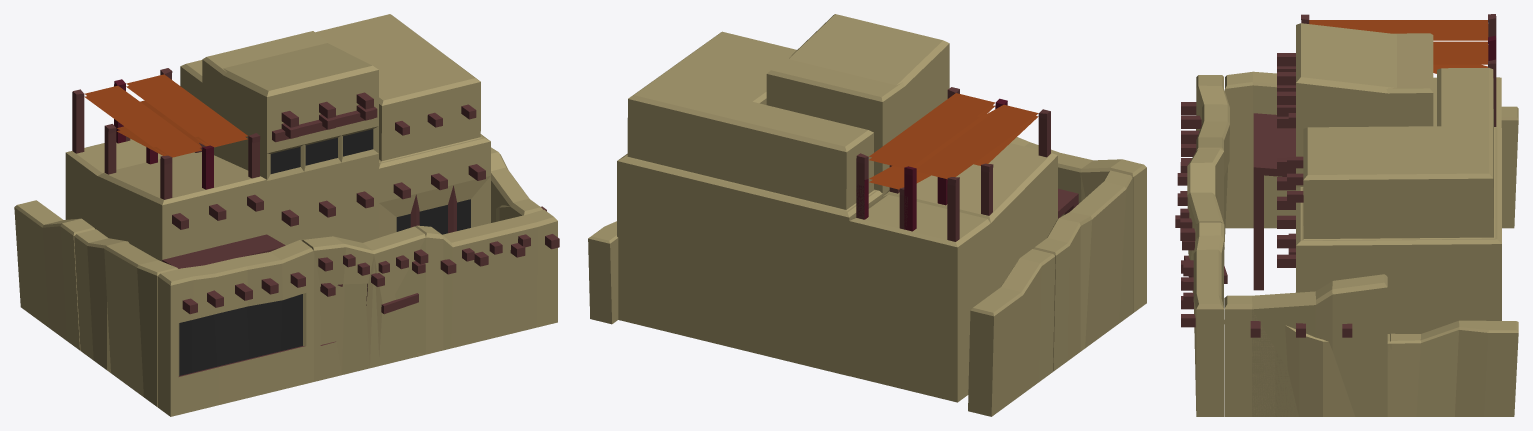
The model's file is Desert House.fbx.
The picture shows the model from 3 angles, left to right: view 1: azimuth 30°, elevation 25°; view 2: azimuth 150°, elevation 25°; view 3: azimuth 270°, elevation 25°; orthographic projection. The views are drawn at different scales.
Visible parts, largest first — view 1: Initial Desert Wall Module C, Desert Home Module Home Tall No.2, Desert Home Module Home Side A No.2, Desert Home Module Side B No.1, Desert Home Module Home Tall No.1, Initial Desert Wall Module E, Initial Desert Wall Module B Door, Desert Home Module Side B No.2, Initial Desert Wall Module A, Initial Desert Wall Module A Door, Desert Home Module Home Side A No.1, Initial Desert Wall Module F (+7 smaller); view 2: Desert Home Module Home Side A No.1, Desert Home Module Side B No.2, Desert Home Module Home Side A No.2, Initial Desert Wall Module E, Desert Home Module Home Tall No.2, Initial Desert Wall Module F, Desert Home Module Side B No.1, Desert Home Module Home Tall No.1, Desert Home Module Roof Tent B, Desert Home Module Side Roof Tent A, Initial Desert Wall Module C, Initial Desert Wall Module D No.1 (+3 smaller); view 3: Desert Home Module Home Side A No.2, Initial Desert Wall Module G, Desert Home Module Home Side A No.1, Initial Desert Wall Module D No.1, Desert Home Module Home Tall No.2, Desert Home Module Home Tall No.1, Initial Desert Wall Module D No.2, Initial Desert Wall Module B Door, Initial Desert Wall Module E, Desert Home Module Side B No.1, Initial Desert Wall Module A Door, Initial Desert Wall Module C (+8 smaller).
Part boxes in pixels (<box>): Initial Desert Wall Module C: <box>157,240,313,416</box>; Desert Home Module Home Tall No.2: <box>202,43,378,242</box>; Desert Home Module Home Side A No.2: <box>180,14,482,234</box>; Desert Home Module Side B No.1: <box>97,152,285,268</box>; Desert Home Module Home Tall No.1: <box>202,31,378,245</box>; Initial Desert Wall Module E: <box>74,229,177,406</box>; Initial Desert Wall Module B Door: <box>415,209,557,354</box>; Desert Home Module Side B No.2: <box>65,139,266,261</box>; Initial Desert Wall Module A: <box>320,238,425,374</box>; Initial Desert Wall Module A Door: <box>302,226,428,381</box>; Desert Home Module Home Side A No.1: <box>379,134,490,237</box>; Initial Desert Wall Module F: <box>14,200,95,350</box>; Desert Home Module Home Side A No.1: <box>617,153,882,375</box>; Desert Home Module Side B No.2: <box>849,178,1057,402</box>; Desert Home Module Home Side A No.2: <box>626,31,875,211</box>; Initial Desert Wall Module E: <box>1033,170,1132,371</box>; Desert Home Module Home Tall No.2: <box>767,14,949,193</box>; Initial Desert Wall Module F: <box>968,249,1055,416</box>; Desert Home Module Side B No.1: <box>882,143,1078,293</box>; Desert Home Module Home Tall No.1: <box>766,56,949,195</box>; Desert Home Module Roof Tent B: <box>904,104,1038,241</box>; Desert Home Module Side Roof Tent A: <box>856,93,994,219</box>; Initial Desert Wall Module C: <box>1011,137,1146,312</box>; Initial Desert Wall Module D No.1: <box>588,221,618,324</box>; Desert Home Module Home Side A No.2: <box>1287,67,1495,240</box>; Initial Desert Wall Module G: <box>1224,274,1387,416</box>; Desert Home Module Home Side A No.1: <box>1277,127,1501,333</box>; Initial Desert Wall Module D No.1: <box>1387,320,1518,416</box>; Desert Home Module Home Tall No.2: <box>1277,23,1433,187</box>; Desert Home Module Home Tall No.1: <box>1277,33,1433,187</box>; Initial Desert Wall Module D No.2: <box>1224,309,1391,416</box>; Initial Desert Wall Module B Door: <box>1183,222,1223,416</box>; Initial Desert Wall Module E: <box>1225,71,1295,228</box>; Desert Home Module Side B No.1: <box>1253,113,1295,290</box>; Initial Desert Wall Module A Door: <box>1177,149,1227,323</box>; Initial Desert Wall Module C: <box>1181,75,1229,249</box>.
Bounding box in the file's own units: 730 × 433 × 500.
